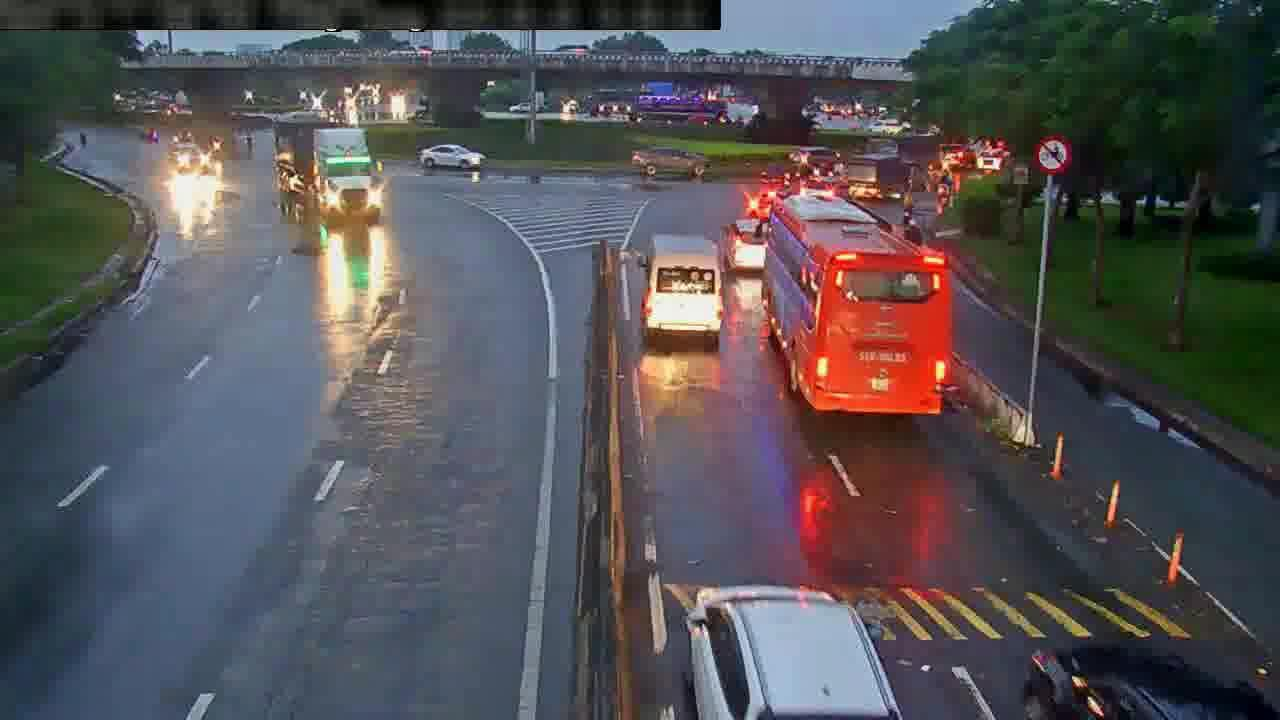14: (756, 193, 948, 419), (634, 231, 726, 347)
8: (267, 113, 385, 226), (841, 151, 929, 201)
container: (686, 581, 899, 715), (1023, 642, 1266, 720), (629, 143, 714, 179), (410, 143, 487, 172)
